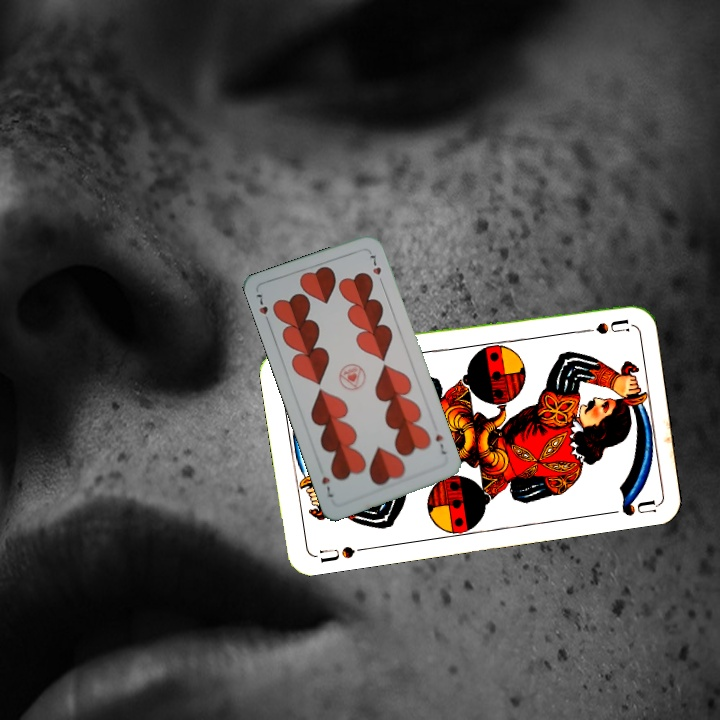H7: (252, 290, 273, 327), (431, 430, 449, 457)
SU: (571, 314, 630, 337), (316, 542, 357, 566)
